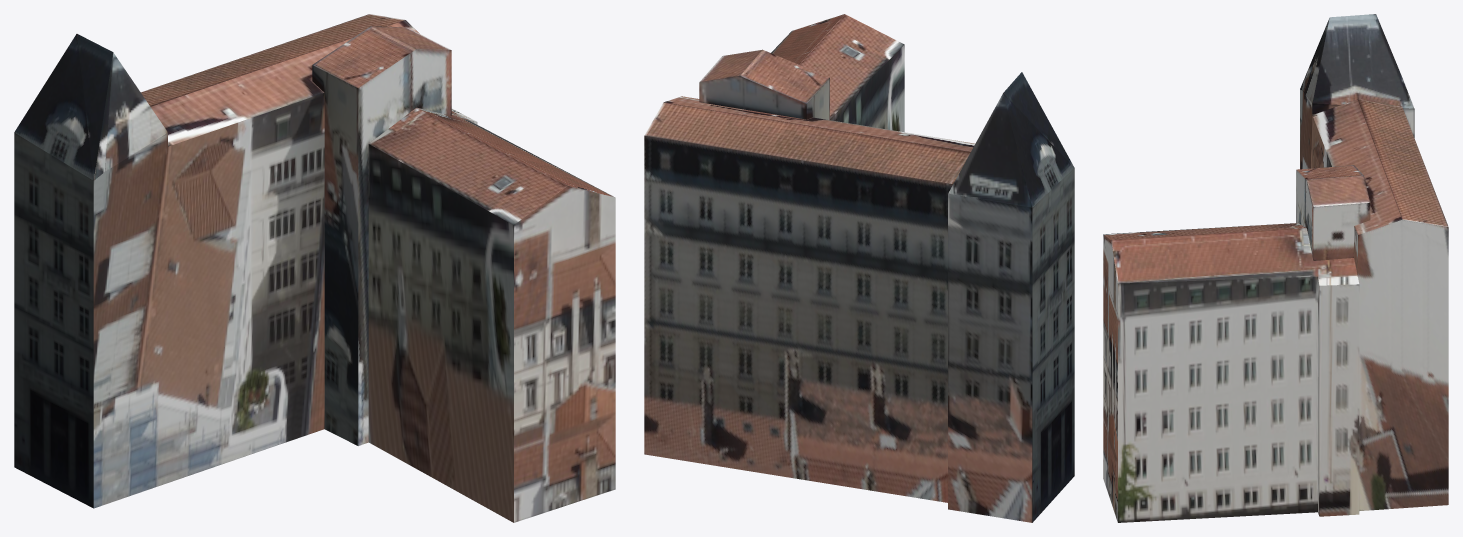
The picture shows the model from 3 angles, left to right: view 1: azimuth 30°, elevation 25°; view 2: azimuth 150°, elevation 25°; view 3: azimuth 270°, elevation 25°; orthographic projection. The views are drawn at different scales.
Visible parts, largest first — view 1: Z_UP; view 2: Z_UP; view 3: Z_UP.
Part boxes in pixels (x1,y1,x2,y2): Z_UP: (14,14,615,522); Z_UP: (644,14,1074,522); Z_UP: (1103,14,1448,522).
Bounding box in the file's own units: 38.42 × 37.17 × 32.67.
2 materials, 1 textured.
